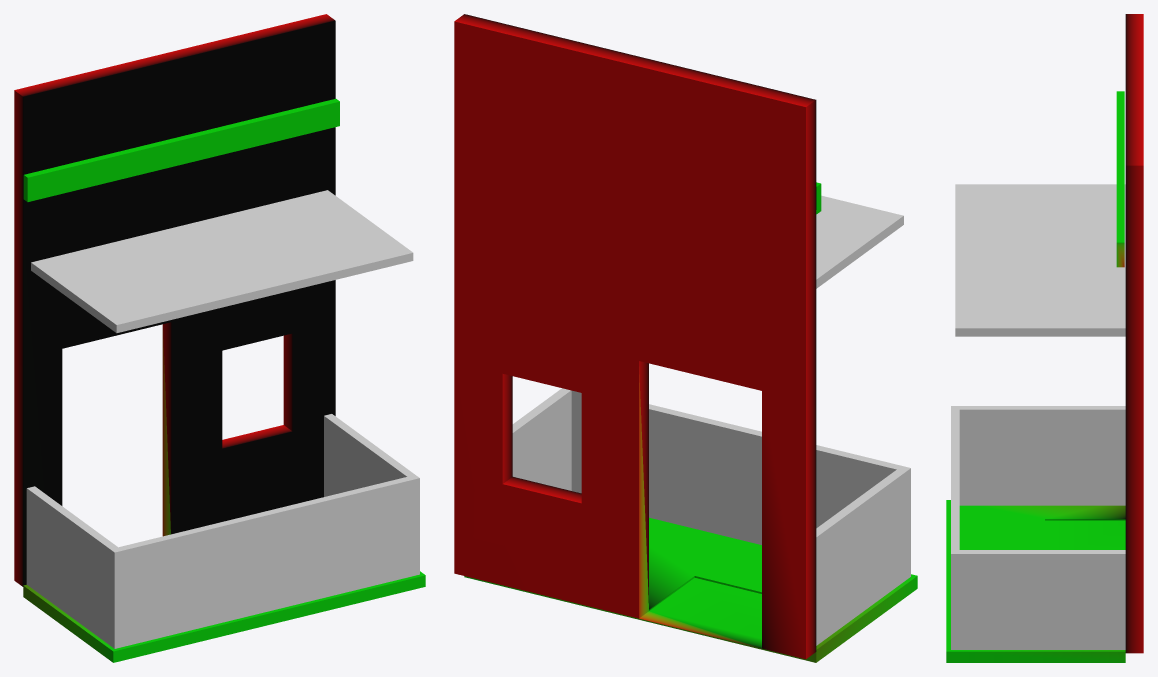
The model's file is FlatBalconyWall.fbx.
3 renders of one model, left to right at view 1: azimuth 30°, elevation 25°; view 2: azimuth 150°, elevation 25°; view 3: azimuth 270°, elevation 25°, orthographic. The views are drawn at different scales.
Parts seen in each view (by area): view 1: FlatBalconyWall, Cube_2, Cube; view 2: FlatBalconyWall, Cube_2, Cube; view 3: Cube_2, Cube, FlatBalconyWall.
Part boxes in pixels (box(x1,y1,x2,y2)): FlatBalconyWall: box(14, 14, 425, 662); Cube_2: box(26, 414, 419, 648); Cube: box(31, 190, 413, 333); FlatBalconyWall: box(454, 14, 917, 662); Cube_2: box(512, 388, 910, 645); Cube: box(816, 195, 903, 288); Cube_2: box(951, 406, 1125, 649); Cube: box(955, 184, 1125, 336); FlatBalconyWall: box(946, 14, 1143, 662).
Size of the model in its own units: 400 by 612 by 220.
